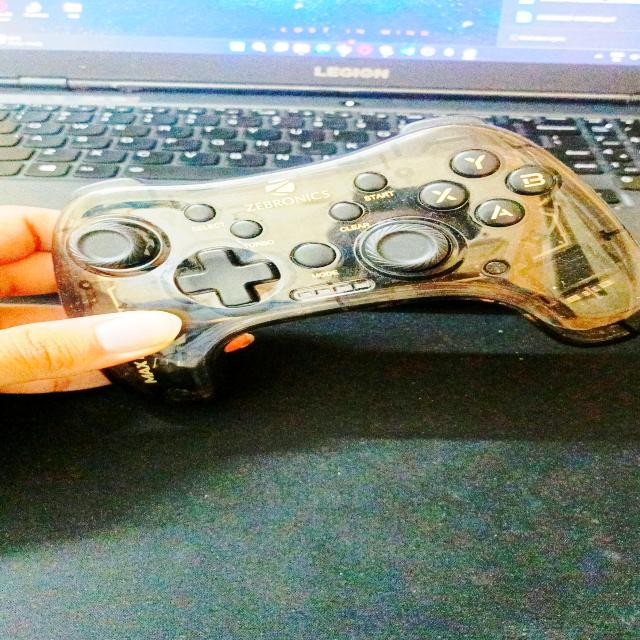gamepad: (49, 115, 640, 404)
